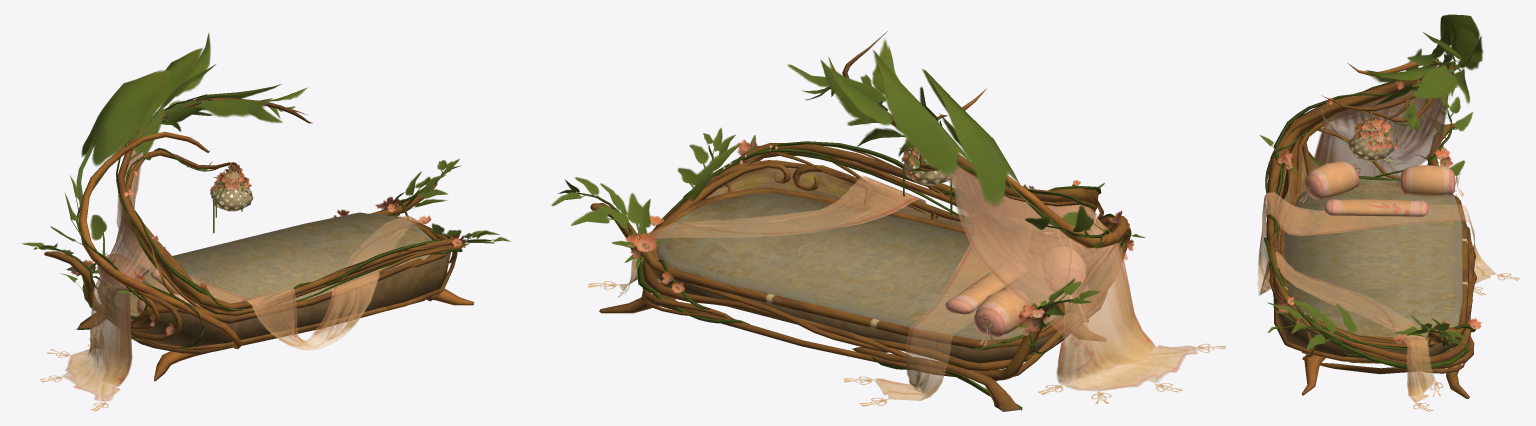
3 renders of one model, left to right at view 1: azimuth 30°, elevation 25°; view 2: azimuth 150°, elevation 25°; view 3: azimuth 270°, elevation 25°, orthographic. The views are drawn at different scales.
Size of the model in its own units: 4.89 by 2.74 by 2.33.
2 materials, 2 textured.
